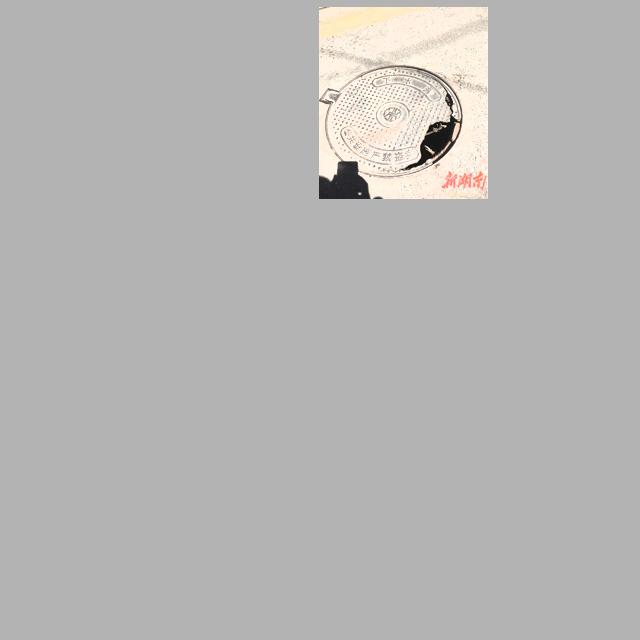broke: (322, 58, 463, 177)
